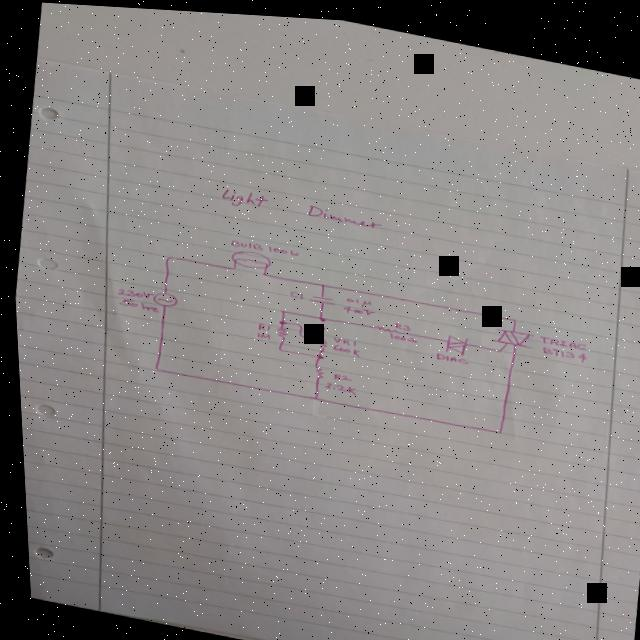capacitor: (304, 289, 335, 303)
junction: (160, 253, 177, 262), (305, 390, 320, 399), (312, 311, 325, 320), (274, 315, 287, 324), (291, 318, 302, 326), (310, 349, 321, 357), (256, 268, 267, 275), (490, 423, 502, 429), (276, 305, 286, 312), (271, 342, 281, 349), (314, 321, 324, 328), (148, 364, 159, 370), (314, 279, 325, 285), (492, 341, 501, 348), (293, 329, 303, 335), (227, 263, 236, 269), (507, 311, 516, 316)
resistor: (304, 330, 329, 347), (368, 319, 400, 331), (306, 359, 323, 377), (270, 322, 286, 337)
source: (147, 288, 177, 307)
text: (216, 183, 383, 231), (227, 234, 298, 256), (536, 337, 585, 358), (534, 328, 584, 345), (112, 295, 158, 312), (111, 284, 151, 300), (318, 376, 355, 392), (430, 346, 467, 361), (327, 339, 360, 355), (338, 300, 374, 314), (341, 291, 371, 305), (384, 327, 416, 340), (327, 332, 354, 343), (327, 368, 350, 380), (389, 316, 410, 328), (250, 328, 270, 338), (285, 286, 303, 297), (252, 319, 269, 330)
